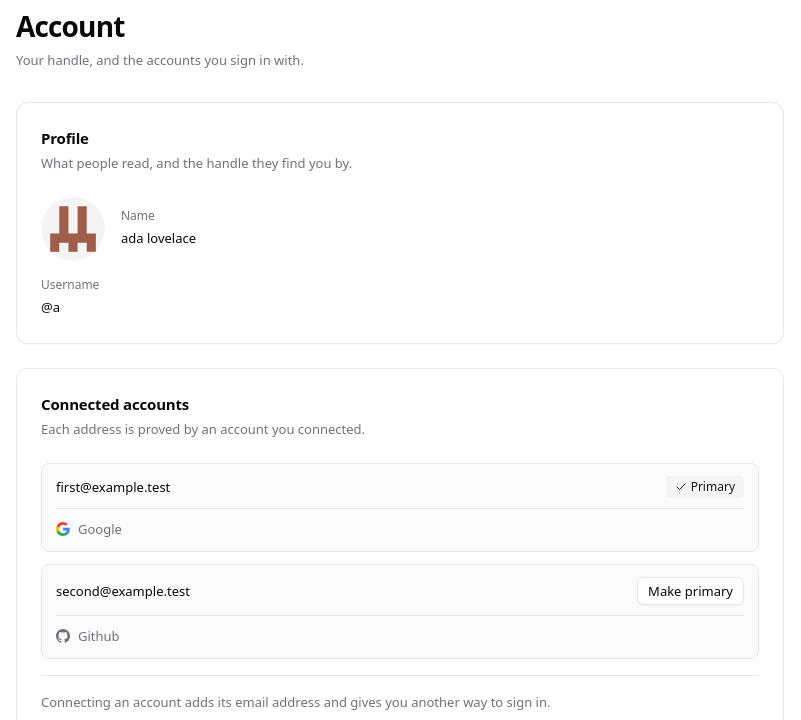
it: email addresses › surfaces the server's reason when an action is refused
The image size is (801, 720).
Click the button "Make primary". click: point(691, 591)
box: [637, 577, 744, 605]
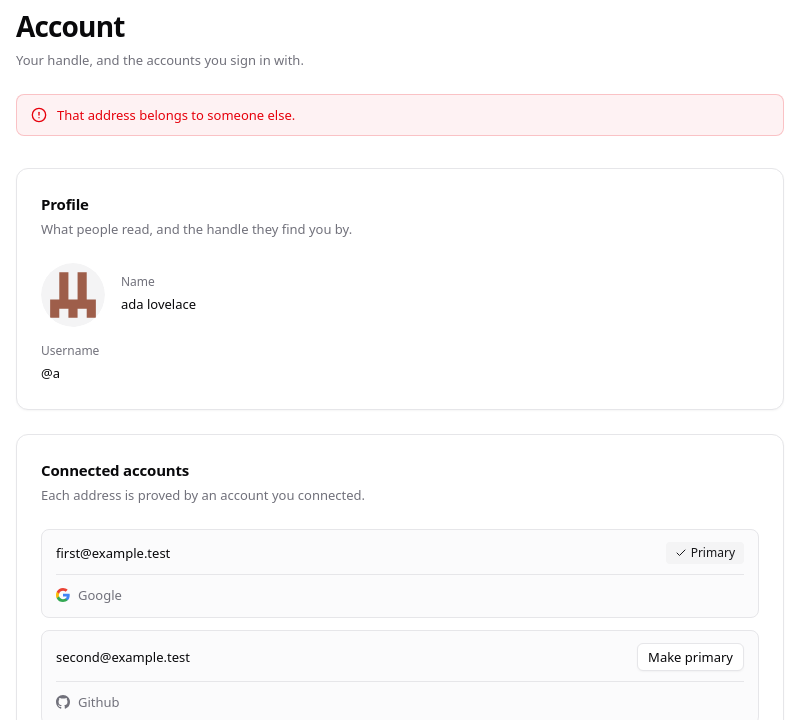
Expected: the text "That address belongs to someone else." is shown, [57, 106, 295, 124]
